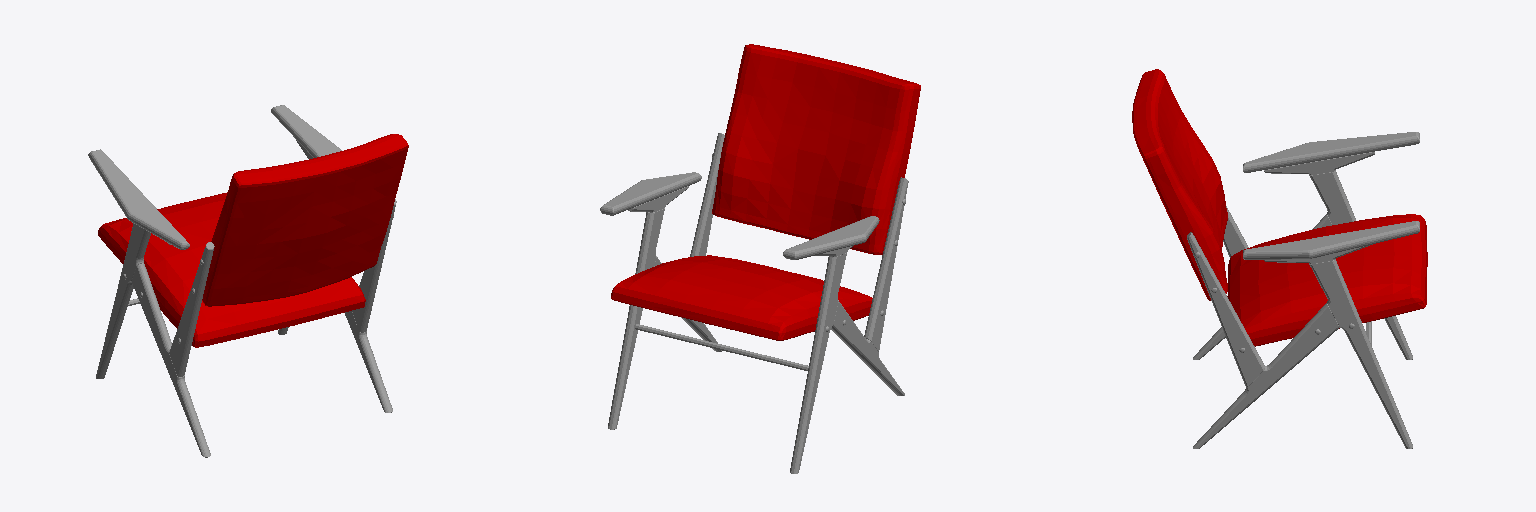
3 views of the same model, side by side, from view 1: azimuth 30°, elevation 25°; view 2: azimuth 150°, elevation 25°; view 3: azimuth 270°, elevation 25° (orthographic).
Parts seen in each view (by area): view 1: Box003, Box005, Box002, Box001; view 2: Box003, Box005, Box002, Box001, travessa; view 3: Box005, Box002, Box003, Box001.
Boxes of the visible parts, x1,y1,x2,y2 form: Box003: [202, 134, 408, 306]; Box005: [98, 192, 365, 347]; Box002: [96, 140, 396, 457]; Box001: [88, 105, 341, 249]; Box003: [712, 44, 920, 254]; Box005: [611, 255, 872, 340]; Box002: [608, 133, 908, 473]; Box001: [600, 172, 879, 259]; travessa: [635, 324, 808, 370]; Box005: [1227, 214, 1427, 346]; Box002: [1187, 152, 1412, 448]; Box003: [1132, 69, 1227, 300]; Box001: [1243, 132, 1419, 259].
Size of the model in its own units: 1.24 by 1.54 by 1.4.